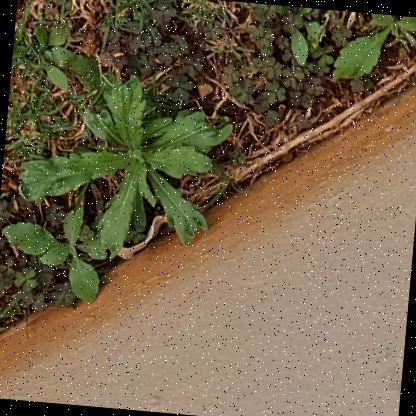Weeds: (4, 66, 240, 272), (0, 197, 127, 308), (329, 11, 415, 92), (253, 4, 323, 67), (10, 24, 74, 92)
